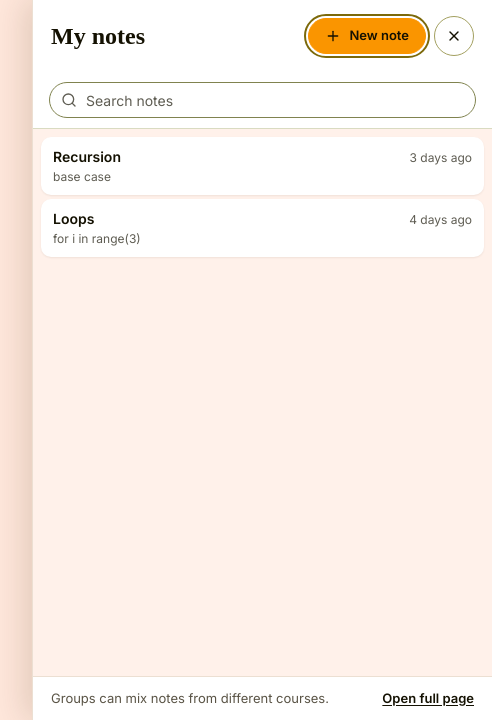
Test: My Notes panel › lists notes newest first, opens one, and searches
The image size is (492, 720).
Expected: the button "Recursion 3 days ago base case" is shown, x1=41 y1=137 x2=484 y2=195
Expected: the button "Loops 4 days ago for i in range(3)" is shown, x1=41 y1=199 x2=484 y2=257
Type "range" into the search field with placeholder "Search notes" at point(262, 100), box x1=49 y1=82 x2=476 y2=118
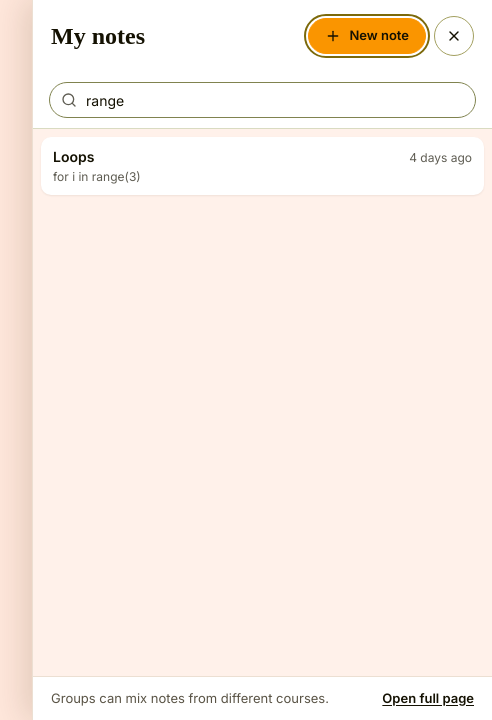
Click the text "Loops" at point(74, 157), box x1=53 y1=147 x2=94 y2=167
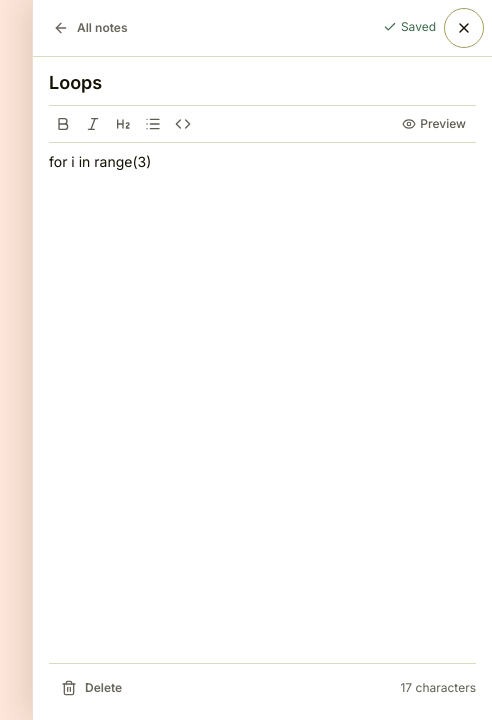
Expected: the text box showing "for i in range(3)" is shown
